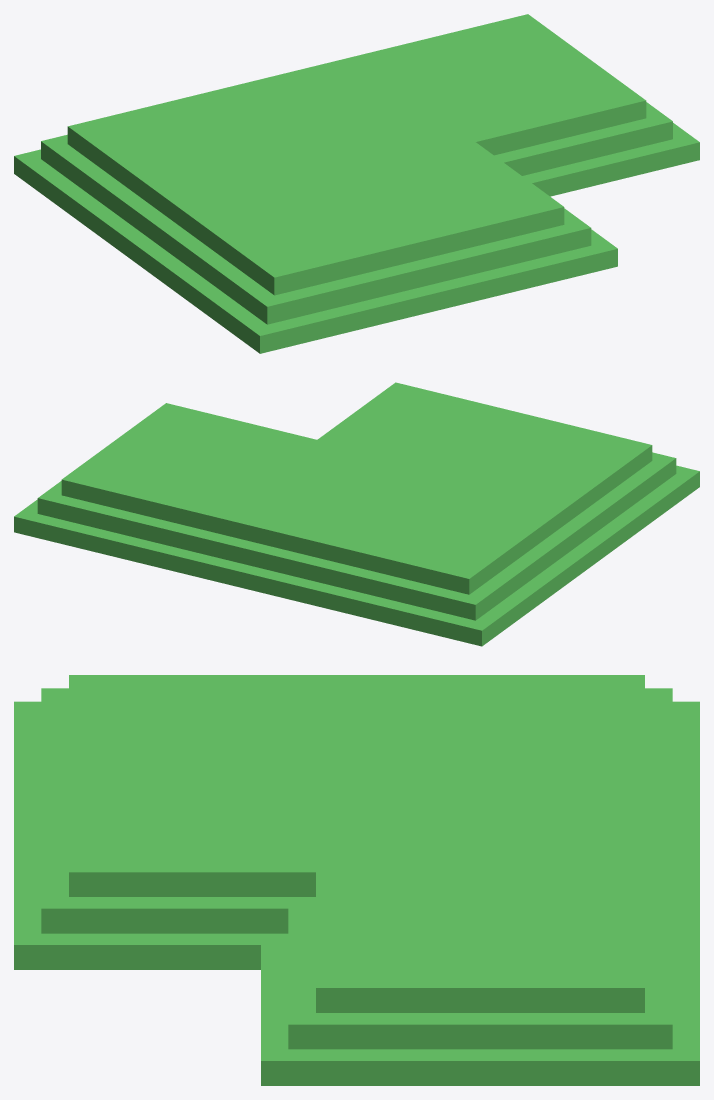
The model's file is roof.gltf.
3 renders of one model, top to bottom at view 1: azimuth 30°, elevation 25°; view 2: azimuth 150°, elevation 25°; view 3: azimuth 270°, elevation 25°, orthographic. The views are drawn at different scales.
Parts seen in each view (by area): view 1: roof; view 2: roof; view 3: roof.
Boxes of the visible parts, <box> form: roof: <box>14,14,699,353</box>; roof: <box>14,382,699,646</box>; roof: <box>14,675,699,1085</box>.
Bounding box in the file's own units: 3.1 × 0.3 × 2.5.
1 material, 1 textured.
